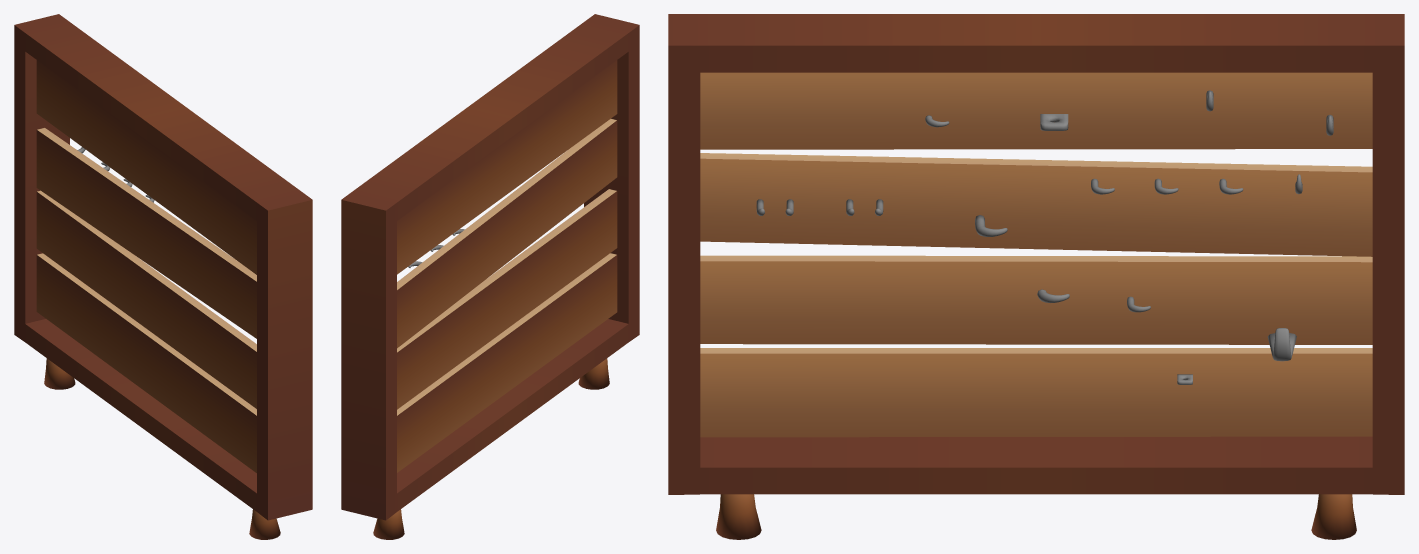
File: toolsCube_050.fbx
The picture shows the model from 3 angles, left to right: view 1: azimuth 30°, elevation 25°; view 2: azimuth 150°, elevation 25°; view 3: azimuth 270°, elevation 25°; orthographic projection. The views are drawn at different scales.
Parts seen in each view (by area): view 1: Cube.050; view 2: Cube.050; view 3: Cube.050.
Boxes of the visible parts, bbox=[...] form: Cube.050: bbox=[14, 14, 312, 539]; Cube.050: bbox=[341, 14, 639, 539]; Cube.050: bbox=[668, 14, 1404, 539].
Bounding box in the file's own units: 161 × 903 × 1201.
